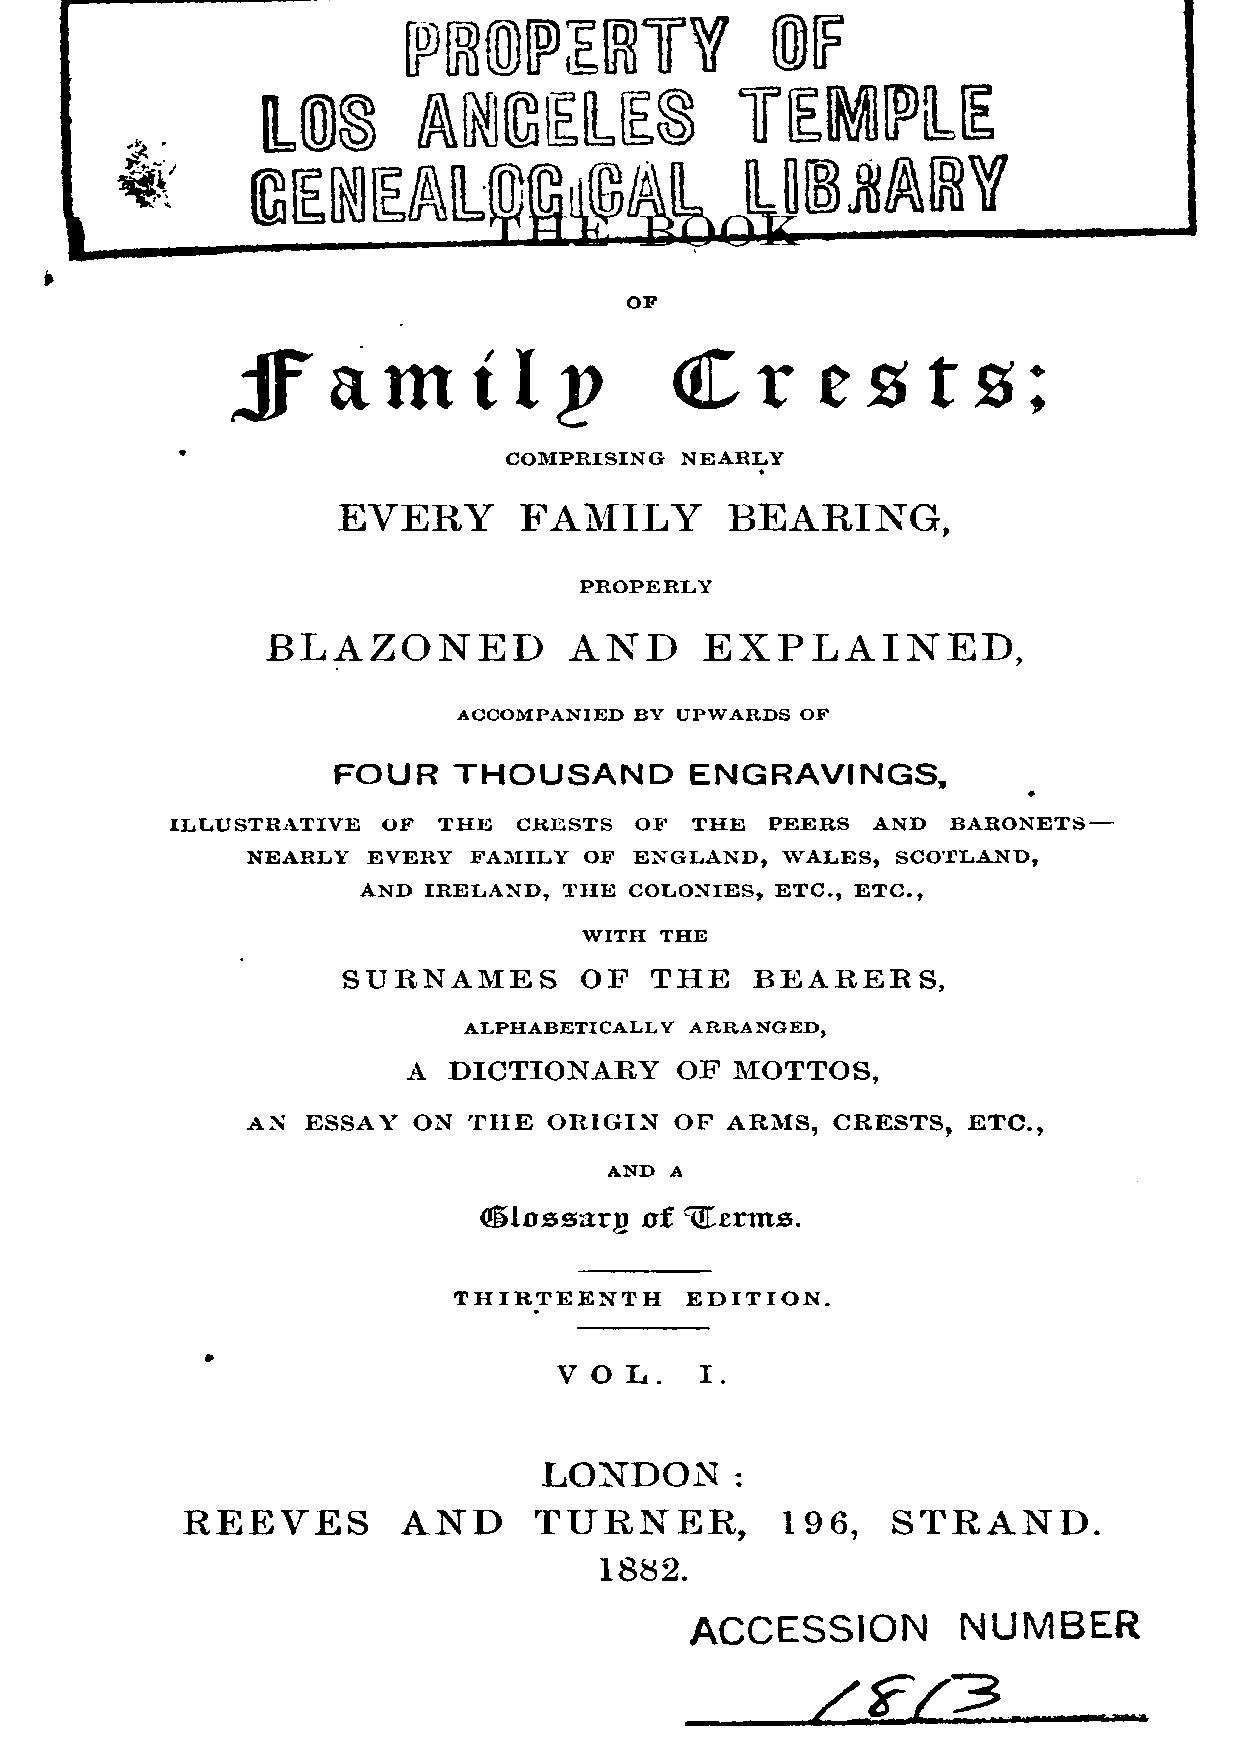title: (227, 209, 1048, 429)
